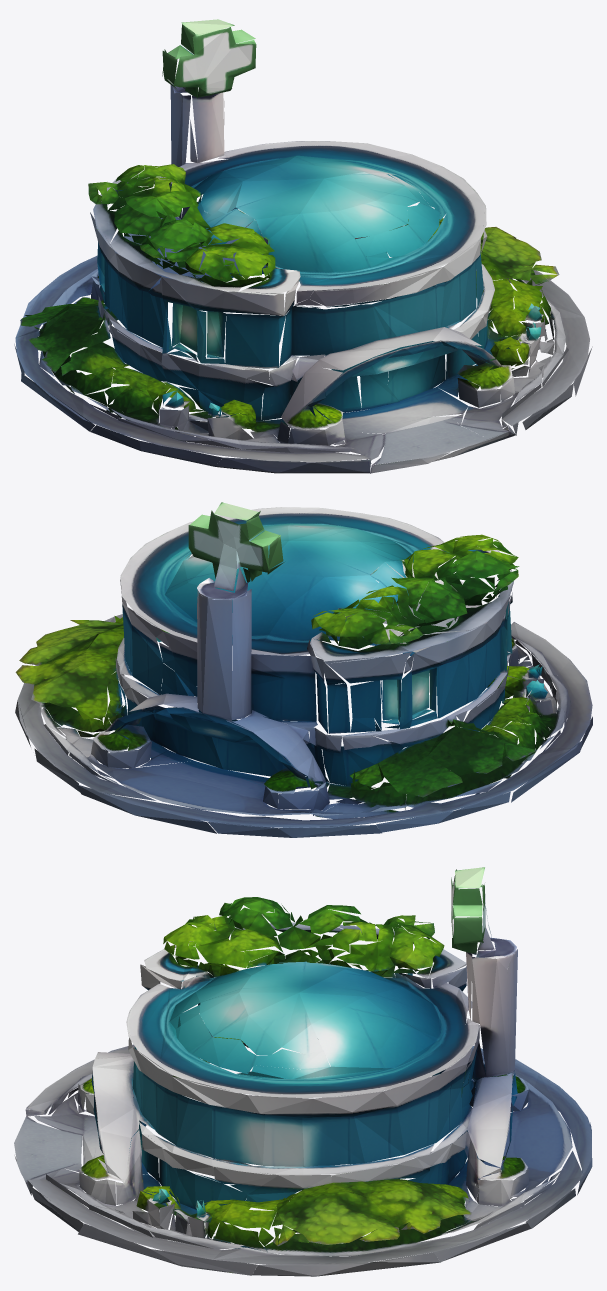
File: hospitals.glb
The picture shows the model from 3 angles, top to bottom: view 1: azimuth 30°, elevation 25°; view 2: azimuth 150°, elevation 25°; view 3: azimuth 270°, elevation 25°; orthographic projection.
Visible parts, largest first — view 1: world.389; view 2: world.389; view 3: world.389.
Boxes of the visible parts, x1=… form: world.389: x1=14, y1=19, x2=592, y2=473; world.389: x1=15, y1=502, x2=592, y2=837; world.389: x1=14, y1=867, x2=592, y2=1276.
Bounding box in the file's own units: 1 × 0.5295 × 1.
1 material, 1 textured.
